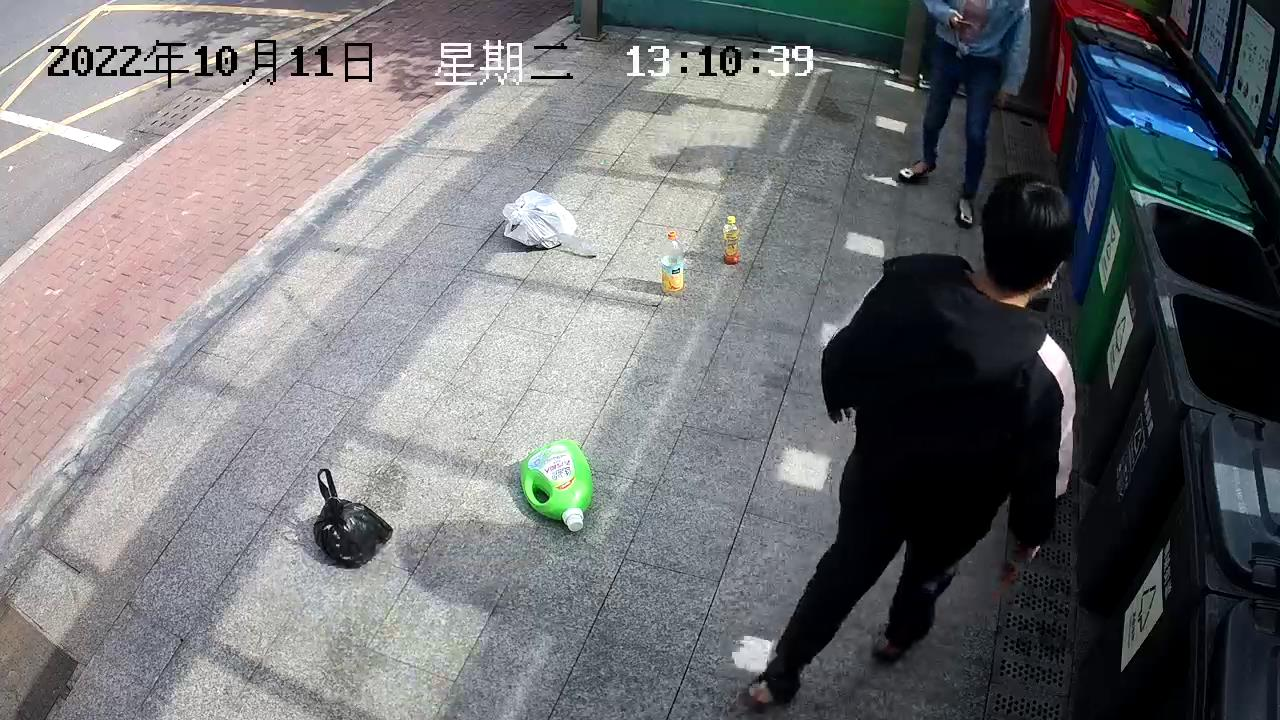garbage-bag: (311, 466, 393, 571), (500, 188, 580, 252)
person: (740, 171, 1089, 711)
suliaozhipin: (515, 437, 595, 535), (659, 227, 687, 298), (719, 211, 742, 265)
